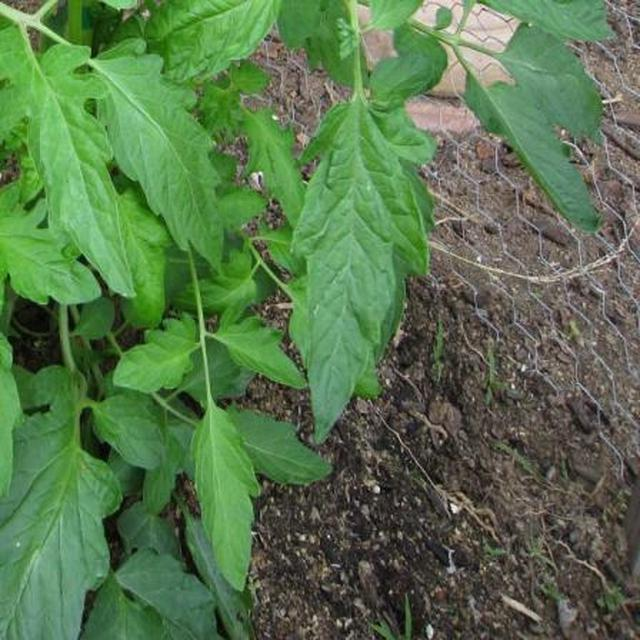Healthy Leaf: (74, 110, 640, 640)
